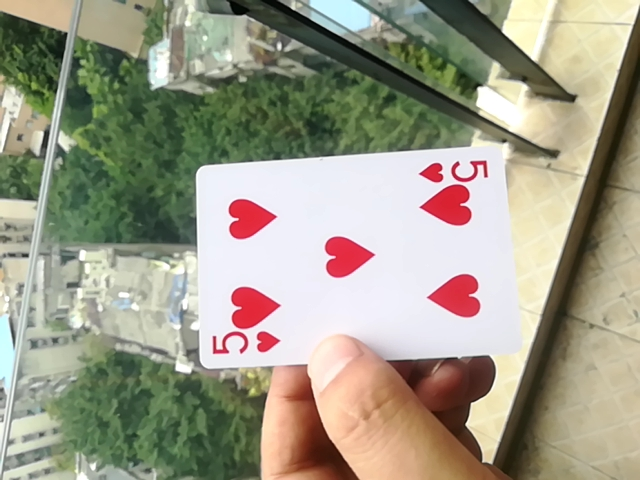hx 5: (194, 141, 514, 372)
